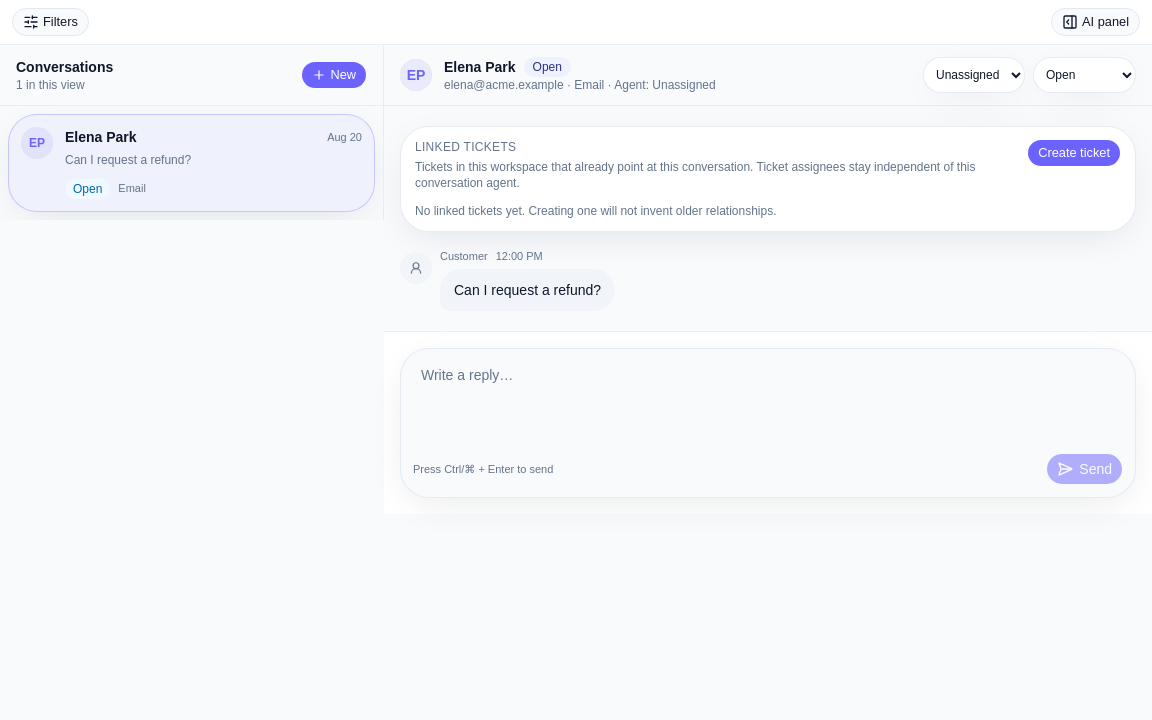
Test case: ConversationsInbox › shows a status update error in the existing reply error area
The width and height of the screenshot is (1152, 720).
Click the text "Elena Park" at x=101, y=137, box [65,127,137,147]
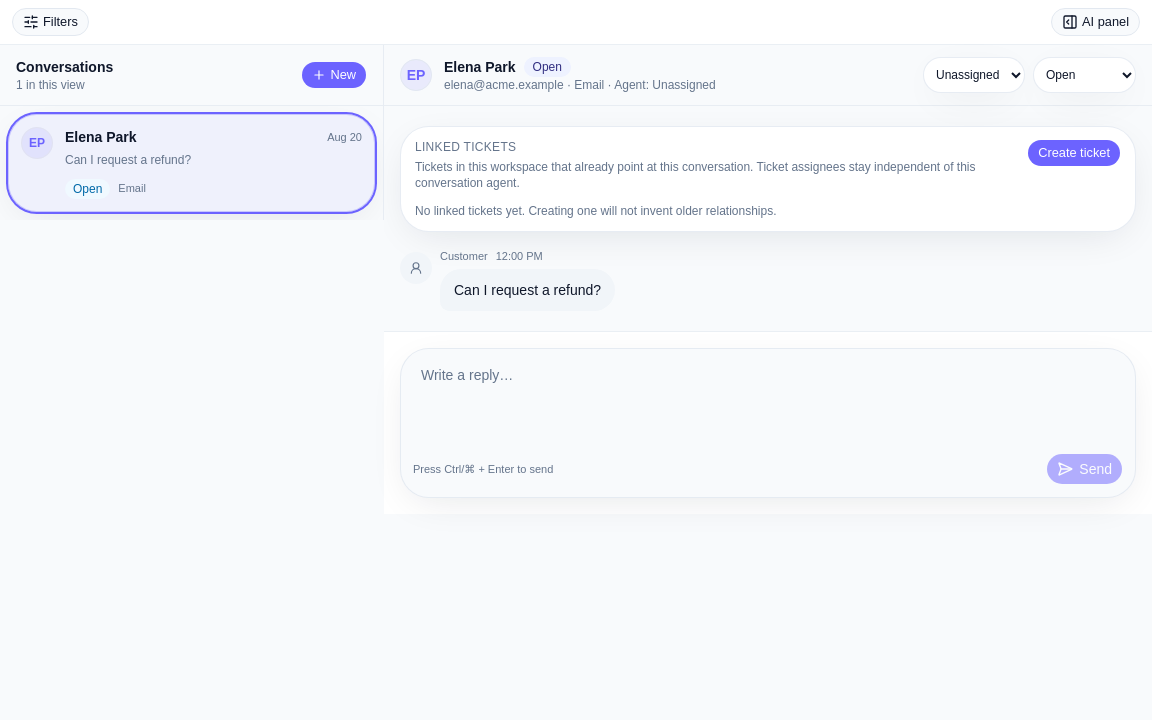
Select "Closed" in the dropdown named "Conversation status" at x=1084, y=75, box [1033,57,1136,93]
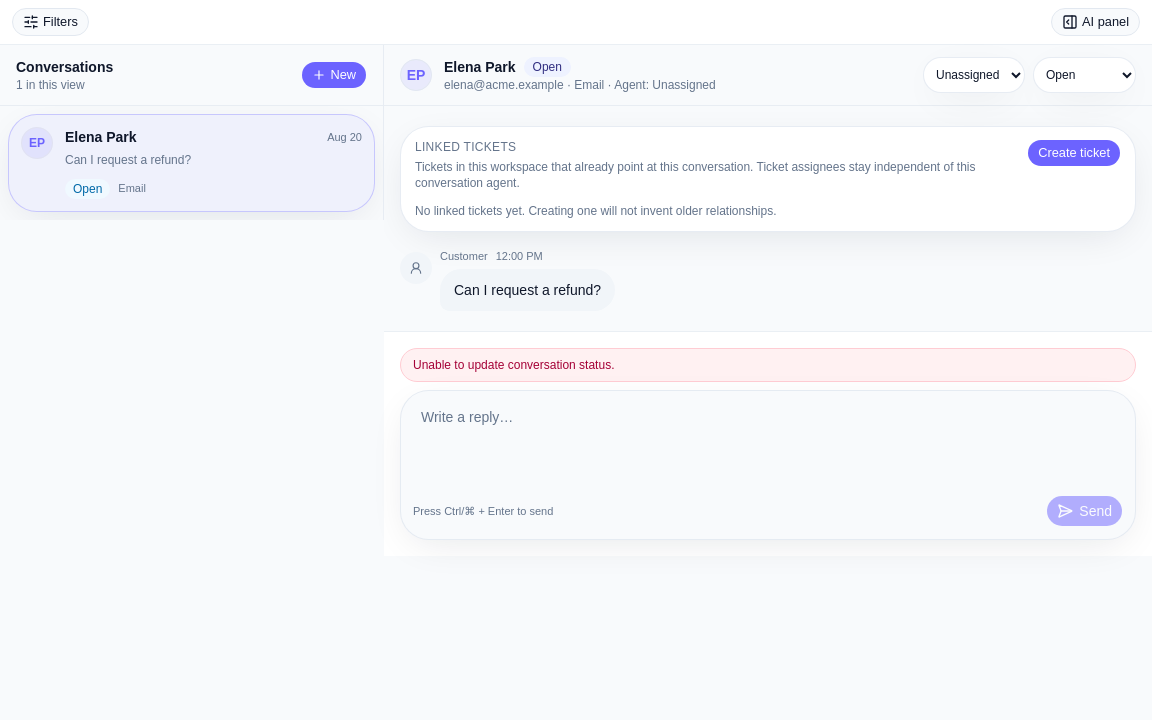
Expected: the text "Unable to update conversation status." is shown, [400,348,1136,382]
